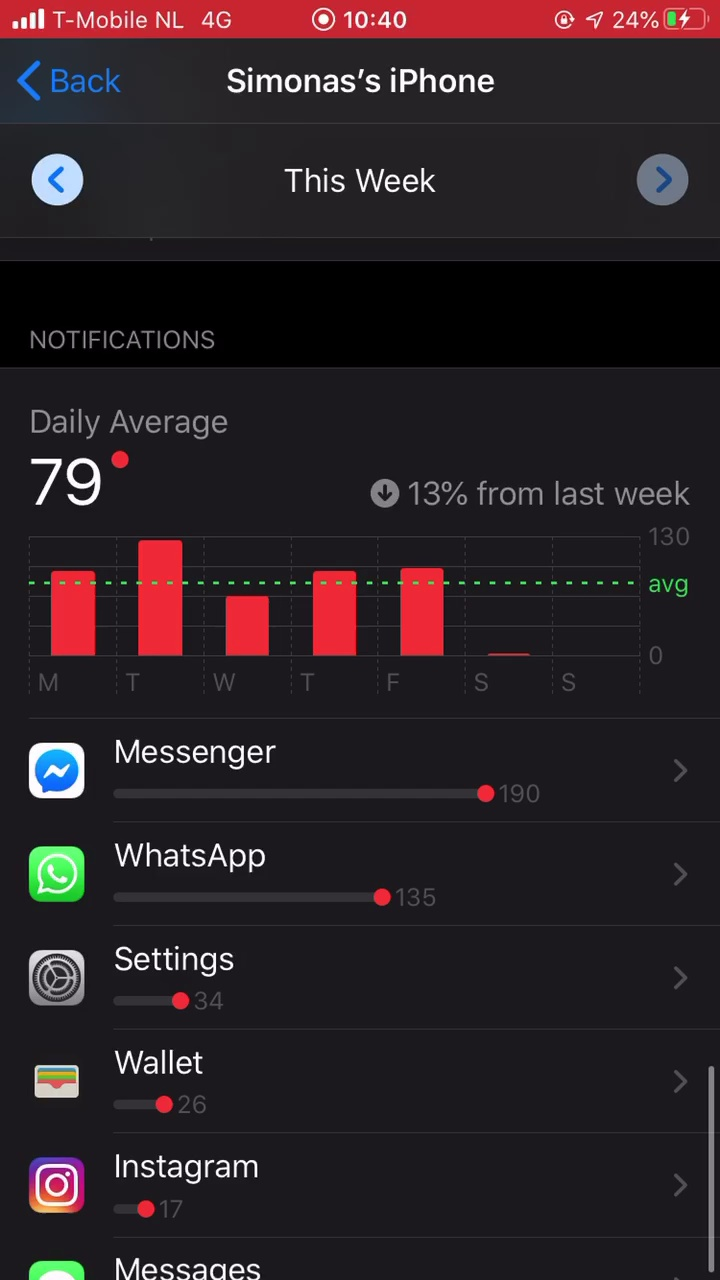not_app: (105, 732, 556, 814), (109, 842, 452, 916), (97, 1150, 264, 1228), (97, 940, 250, 1016), (97, 1046, 250, 1122)
not_over: (24, 314, 242, 526)
week: (264, 158, 452, 218)
